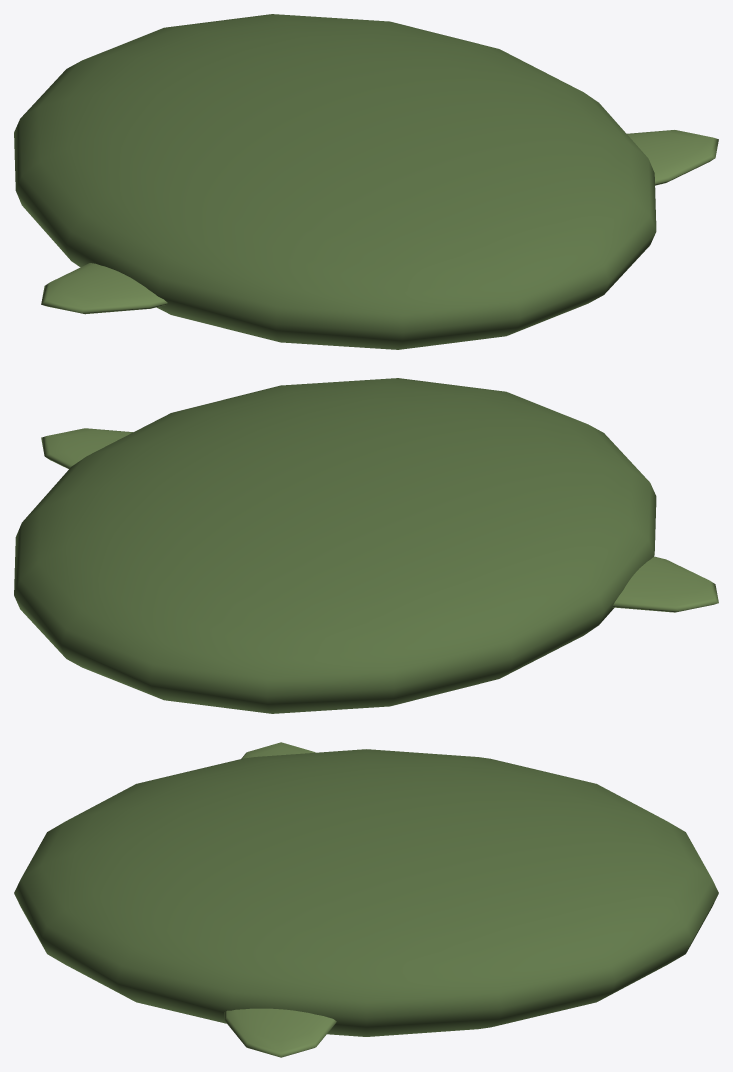
The model's file is creature-turtle.glb.
3 views of the same model, one above another, from view 1: azimuth 30°, elevation 25°; view 2: azimuth 150°, elevation 25°; view 3: azimuth 270°, elevation 25° (orthographic). The views are drawn at different scales.
Visible parts, largest first — view 1: Shell, RightFrontFlipper, LeftFrontFlipper; view 2: Shell, RightFrontFlipper, LeftFrontFlipper; view 3: Shell, LeftFrontFlipper, RightFrontFlipper.
Part boxes in pixels (bbox=[...]): Shell: bbox=[14, 14, 656, 349]; RightFrontFlipper: bbox=[41, 263, 167, 314]; LeftFrontFlipper: bbox=[627, 130, 718, 185]; Shell: bbox=[14, 378, 656, 713]; RightFrontFlipper: bbox=[612, 556, 718, 612]; LeftFrontFlipper: bbox=[41, 428, 132, 468]; Shell: bbox=[14, 749, 718, 1036]; LeftFrontFlipper: bbox=[224, 1008, 336, 1057]; RightFrontFlipper: bbox=[241, 742, 315, 758].
Size of the model in its own units: 7.86 by 1.68 by 7.44.
